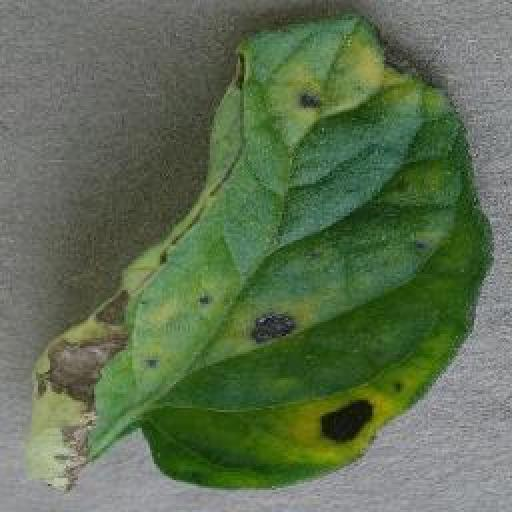disease_tomato: (32, 13, 498, 495)
